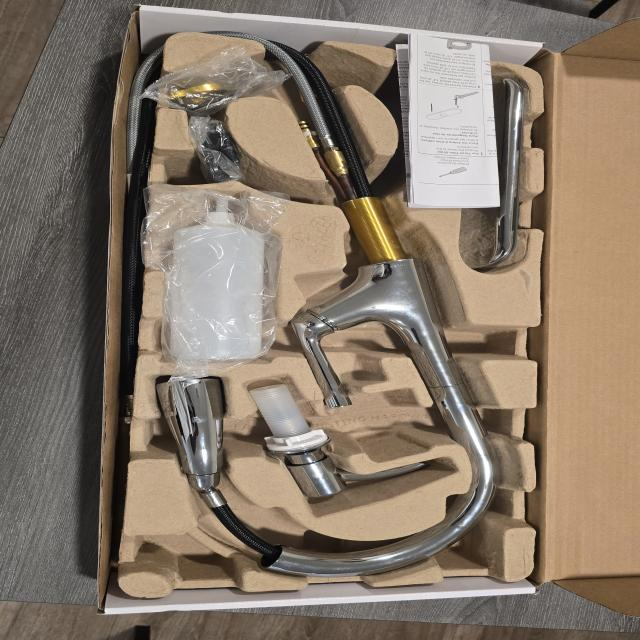1: (160, 47, 501, 580)
2: (242, 383, 429, 499)
3: (169, 190, 270, 364)
4o: (460, 73, 530, 271)
5m: (398, 77, 454, 108)
6: (152, 52, 275, 112)
7: (192, 120, 250, 181)
8: (401, 37, 503, 208)
